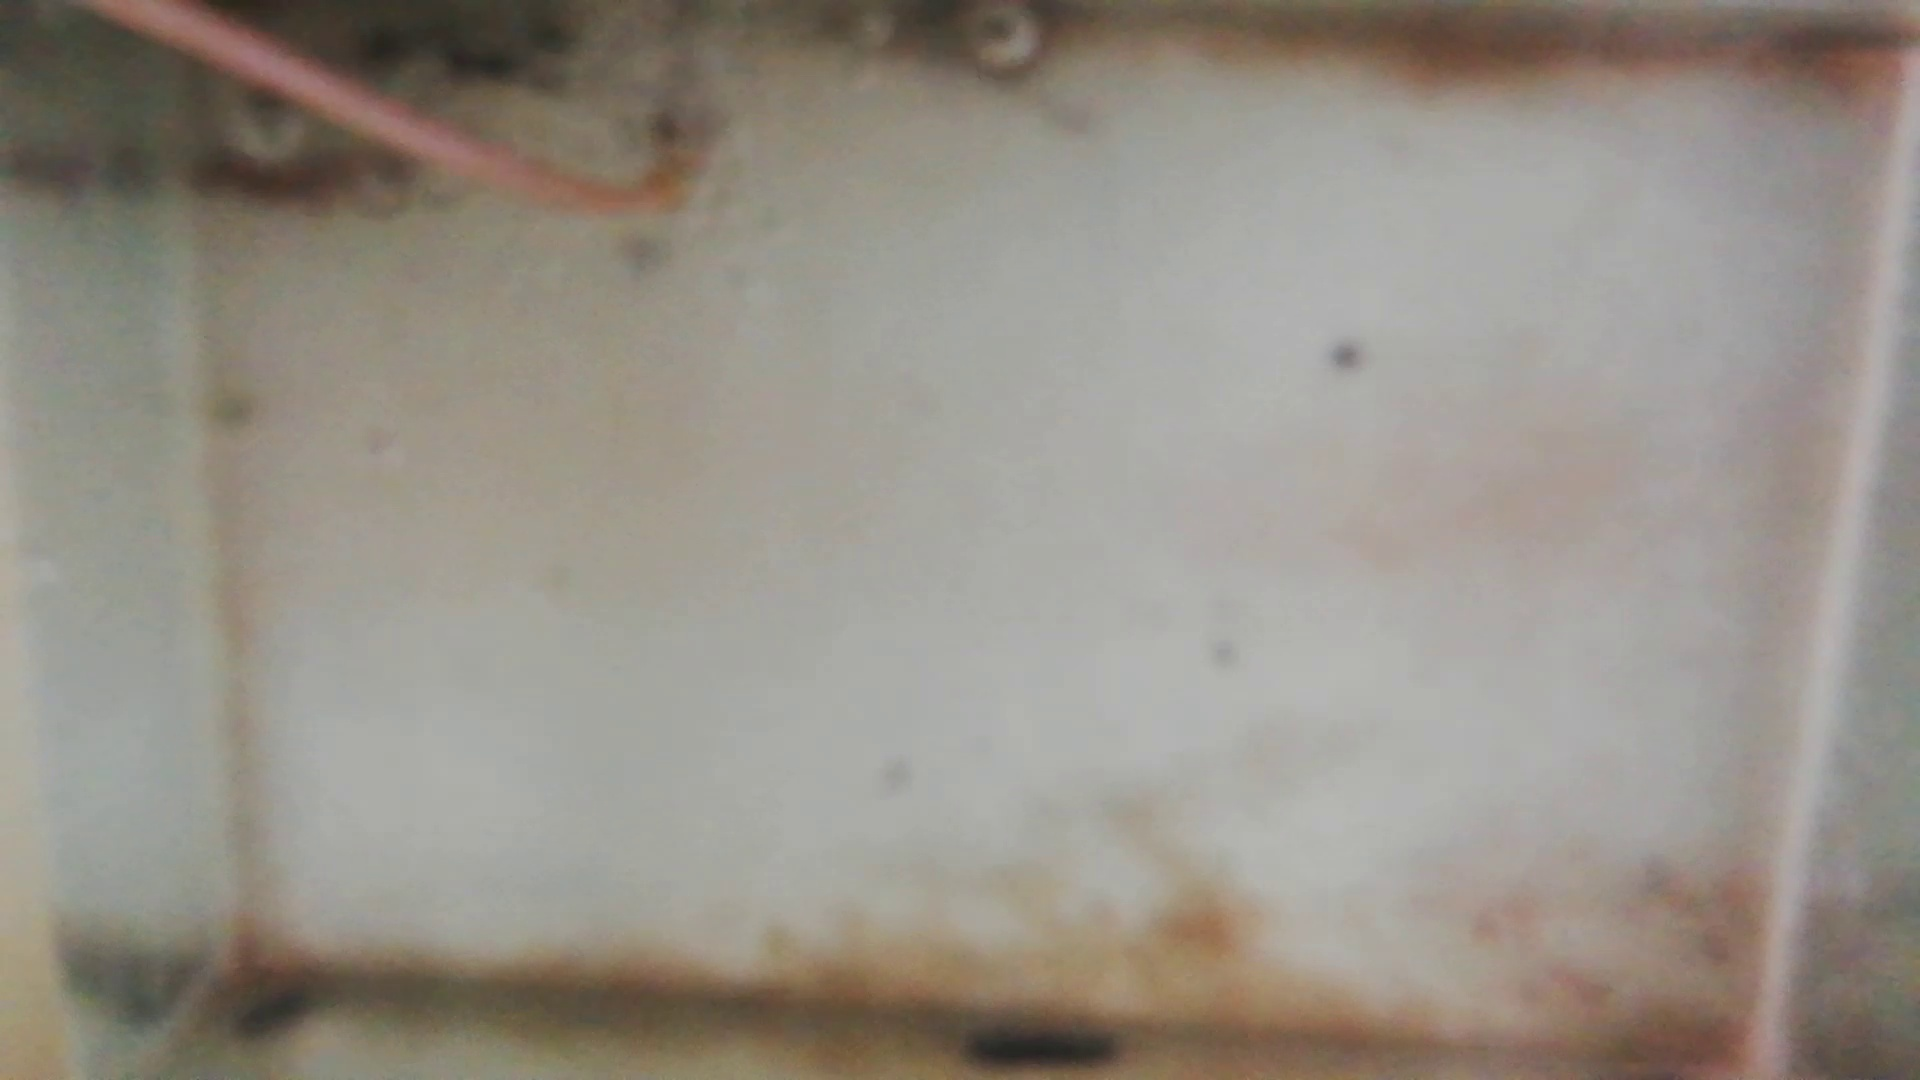fish: (186, 148, 392, 206)
